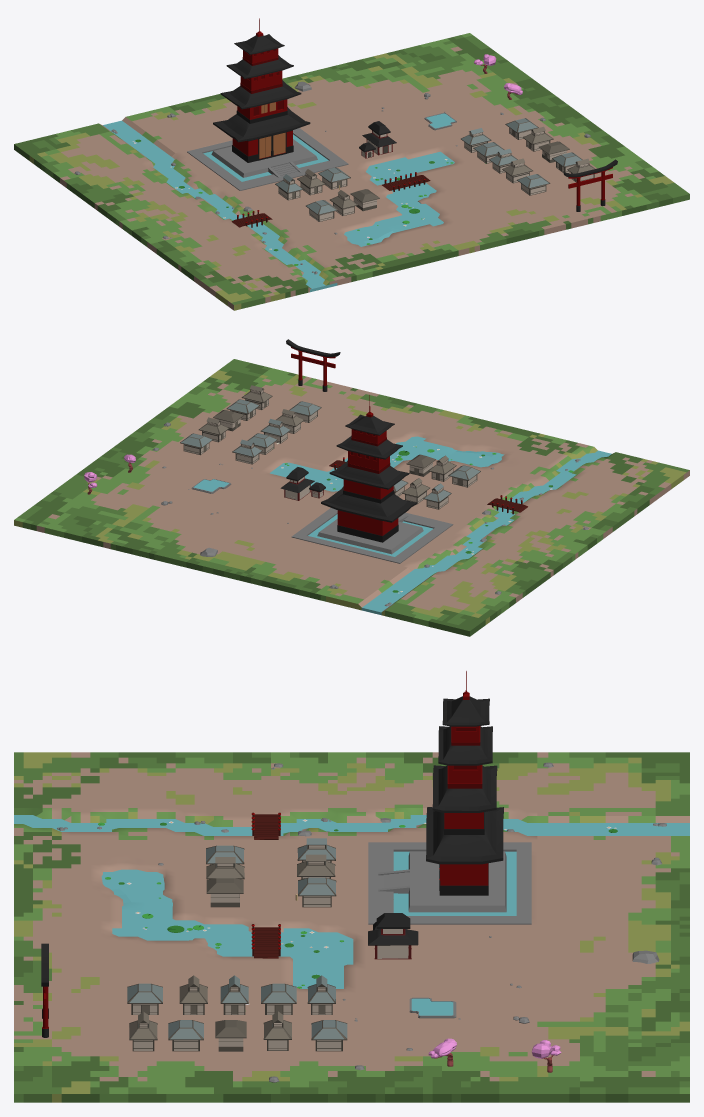
Rendered from Mapa 1.fbx.
The picture shows the model from 3 angles, top to bottom: view 1: azimuth 30°, elevation 25°; view 2: azimuth 150°, elevation 25°; view 3: azimuth 270°, elevation 25°; orthographic projection. The views are drawn at different scales.
Visible parts, largest first — view 1: suelo1, lago, rio, pCube8, base_templo, techo11, techo10, temple5, techo9, temple4, temple2, agua_templo (+4 smaller); view 2: suelo1, rio, lago, pCube8, techo11, base_templo, temple5, techo10, techo9, temple4, temple2, agua_templo (+4 smaller); view 3: suelo1, lago, rio, pCube8, base_templo, techo11, techo10, agua_templo, techo9, temple5, house_2 (×2), techo4 (+17 smaller).
Boxes of the visible parts, box(x1,y1,x2,y2) form: suelo1: box(14, 33, 689, 310); lago: box(344, 151, 454, 246); rio: box(103, 120, 337, 292); pCube8: box(187, 128, 348, 190); base_templo: box(211, 139, 317, 177); techo11: box(213, 107, 310, 142); techo10: box(220, 80, 301, 109); temple5: box(232, 130, 293, 162); techo9: box(226, 55, 293, 78); temple4: box(236, 99, 287, 123); temple2: box(240, 70, 282, 93); agua_templo: box(203, 134, 328, 181); suelo1: box(14, 359, 689, 636); rio: box(361, 450, 611, 615); lago: box(270, 436, 504, 491); pCube8: box(291, 508, 453, 563); techo11: box(321, 486, 416, 522); base_templo: box(317, 515, 423, 554); temple5: box(337, 510, 398, 542); techo10: box(329, 460, 409, 489); techo9: box(336, 435, 402, 459); temple4: box(343, 479, 393, 503); temple2: box(347, 451, 390, 473); agua_templo: box(308, 514, 433, 556); suelo1: box(14, 752, 689, 1102); lago: box(101, 869, 353, 988); rio: box(14, 815, 689, 835); pCube8: box(368, 842, 531, 924); base_templo: box(378, 851, 506, 912); techo11: box(426, 807, 503, 864); techo10: box(432, 765, 497, 812); agua_templo: box(393, 851, 516, 915); techo9: box(438, 726, 492, 765); temple5: box(439, 863, 488, 895); house_2 (×2): box(307, 929, 411, 1014); techo4: box(442, 696, 489, 726).
Bounding box in the file's own units: 84.95 × 27.06 × 71.07.
